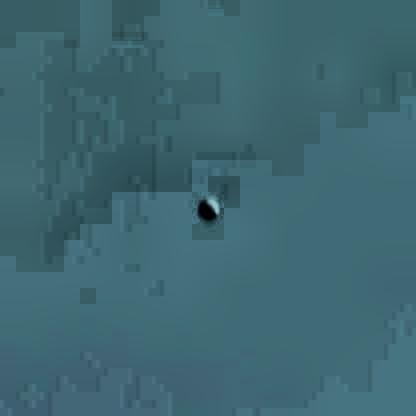golfball: (196, 193, 218, 217)
